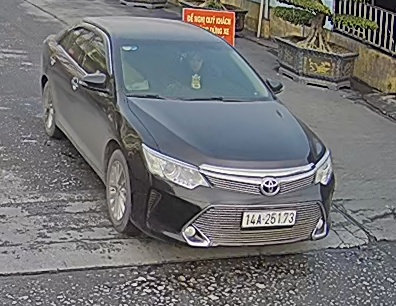vehicle plate: (239, 206, 300, 226)
